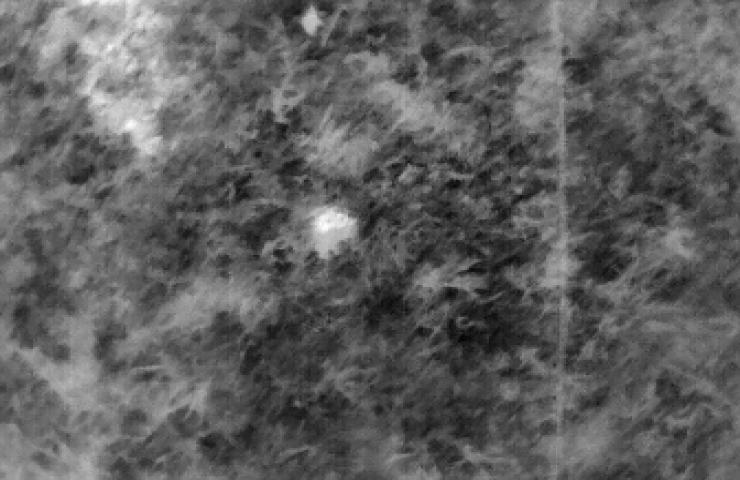landmines: (309, 209, 359, 237)
